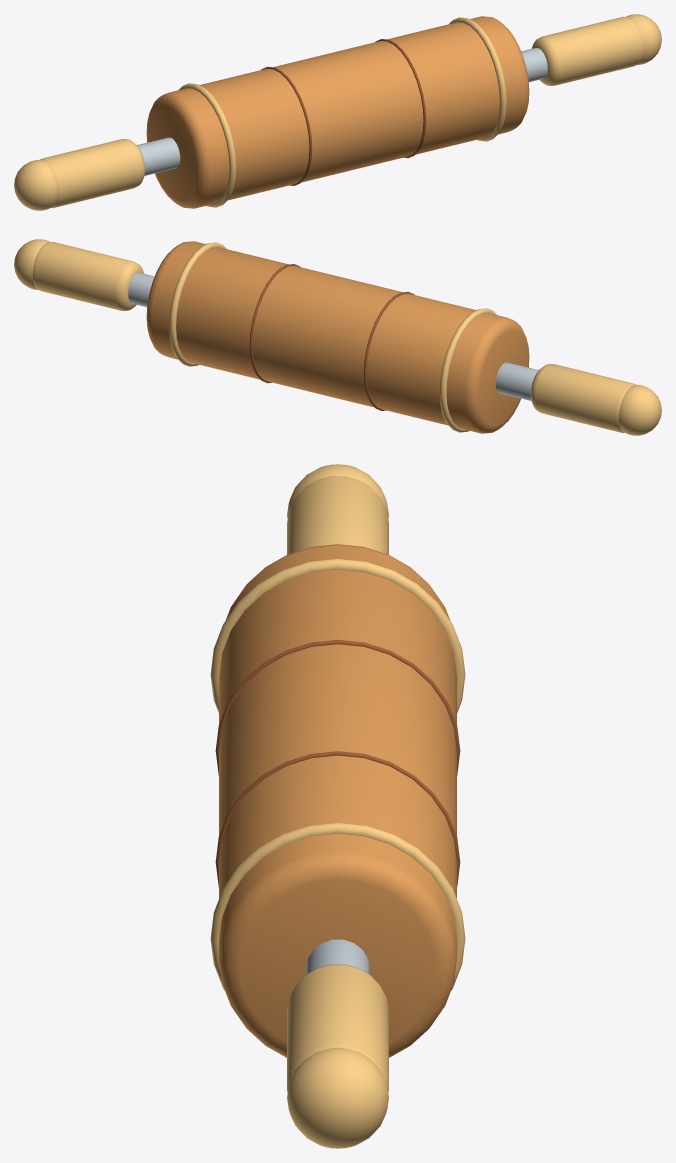
The model's file is RollingPinLog.glb.
3 renders of one model, top to bottom at view 1: azimuth 30°, elevation 25°; view 2: azimuth 150°, elevation 25°; view 3: azimuth 270°, elevation 25°, orthographic. The views are drawn at different scales.
Parts seen in each view (by area): view 1: RollingPin_Barrel, RollingPin_Handle_Right, RollingPin_Handle_Left, RollingPin_HandleTip_Left, RollingPin_Axle_Left, RollingPin_Band_Left, RollingPin_Band_Right, RollingPin_HandleTip_Right, RollingPin_Axle_Right, RollingPin_Grain_Right, RollingPin_Grain_Left; view 2: RollingPin_Barrel, RollingPin_Handle_Right, RollingPin_Handle_Left, RollingPin_HandleTip_Left, RollingPin_Axle_Left, RollingPin_Band_Left, RollingPin_Band_Right, RollingPin_HandleTip_Right, RollingPin_Axle_Right, RollingPin_Grain_Right, RollingPin_Grain_Left; view 3: RollingPin_Barrel, RollingPin_Handle_Right, RollingPin_HandleTip_Right, RollingPin_Handle_Left, RollingPin_Band_Right, RollingPin_Band_Left, RollingPin_Grain_Left, RollingPin_Grain_Right, RollingPin_Axle_Right, RollingPin_HandleTip_Left.
Part boxes in pixels (x1,y1,x2,y2): RollingPin_Barrel: (146,16,529,208); RollingPin_Handle_Right: (531,16,643,85); RollingPin_Handle_Left: (39,139,145,208); RollingPin_HandleTip_Left: (14,160,57,210); RollingPin_Axle_Left: (137,137,180,175); RollingPin_Band_Left: (178,83,236,207); RollingPin_Band_Right: (449,17,506,141); RollingPin_HandleTip_Right: (626,14,661,64); RollingPin_Axle_Right: (521,48,547,82); RollingPin_Grain_Right: (375,39,426,158); RollingPin_Grain_Left: (261,66,312,185); RollingPin_Barrel: (146,241,529,433); RollingPin_Handle_Right: (32,241,144,310); RollingPin_Handle_Left: (530,364,636,433); RollingPin_HandleTip_Left: (618,385,661,435); RollingPin_Axle_Left: (495,362,538,400); RollingPin_Band_Left: (439,308,497,432); RollingPin_Band_Right: (169,242,226,366); RollingPin_HandleTip_Right: (14,239,49,289); RollingPin_Axle_Right: (128,273,154,307); RollingPin_Grain_Right: (249,264,300,383); RollingPin_Grain_Left: (363,291,414,410); RollingPin_Barrel: (219,544,456,1057); RollingPin_Handle_Right: (287,964,388,1092); RollingPin_HandleTip_Right: (287,1047,388,1148); RollingPin_Handle_Left: (287,476,388,554); RollingPin_Band_Right: (210,822,465,990); RollingPin_Band_Left: (210,558,465,712); RollingPin_Grain_Left: (215,640,460,775); RollingPin_Grain_Right: (215,751,460,886); RollingPin_Axle_Right: (306,939,369,974); RollingPin_HandleTip_Left: (287,464,388,518).
Size of the model in its own units: 6.97 by 1.2 by 1.2.
